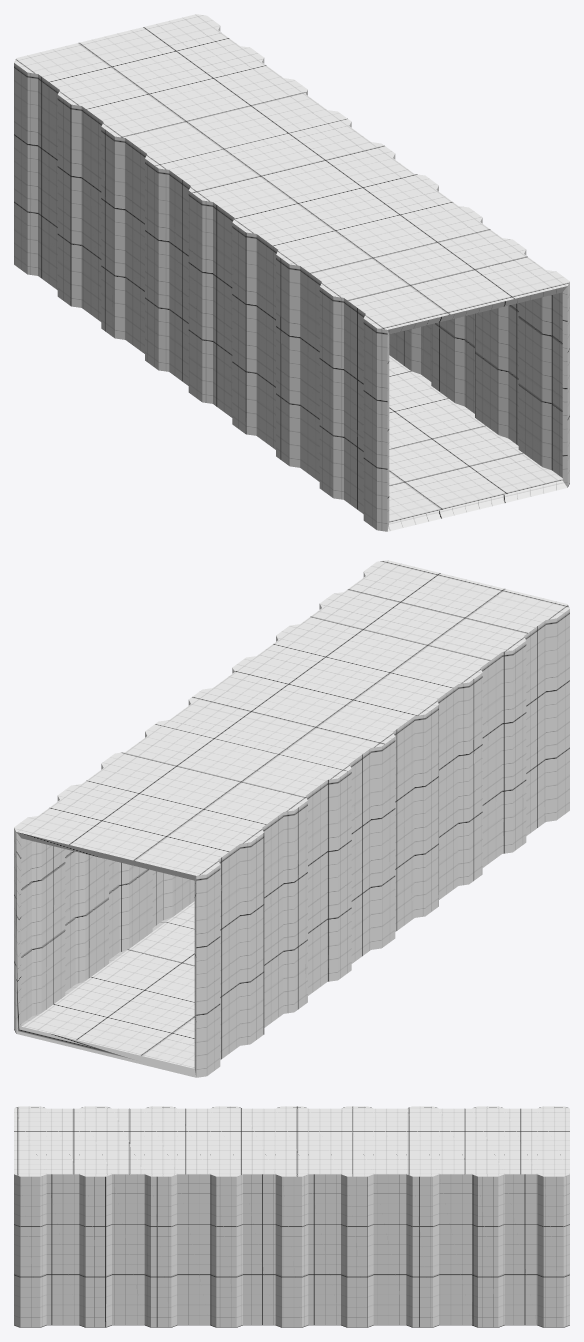
File: Conteneur_3x10.fbx
3 renders of one model, top to bottom at view 1: azimuth 30°, elevation 25°; view 2: azimuth 150°, elevation 25°; view 3: azimuth 270°, elevation 25°, orthographic. The views are drawn at different scales.
Visible parts, largest first — view 1: Conteneur_3x10; view 2: Conteneur_3x10; view 3: Conteneur_3x10.
Part boxes in pixels (x1,y1,x2,y2): Conteneur_3x10: (14,14,569,531); Conteneur_3x10: (14,560,569,1077); Conteneur_3x10: (14,1106,569,1327).
Bounding box in the file's own units: 300 × 300 × 1000.
